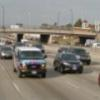cars: (57, 46, 92, 66), (0, 45, 14, 60)
